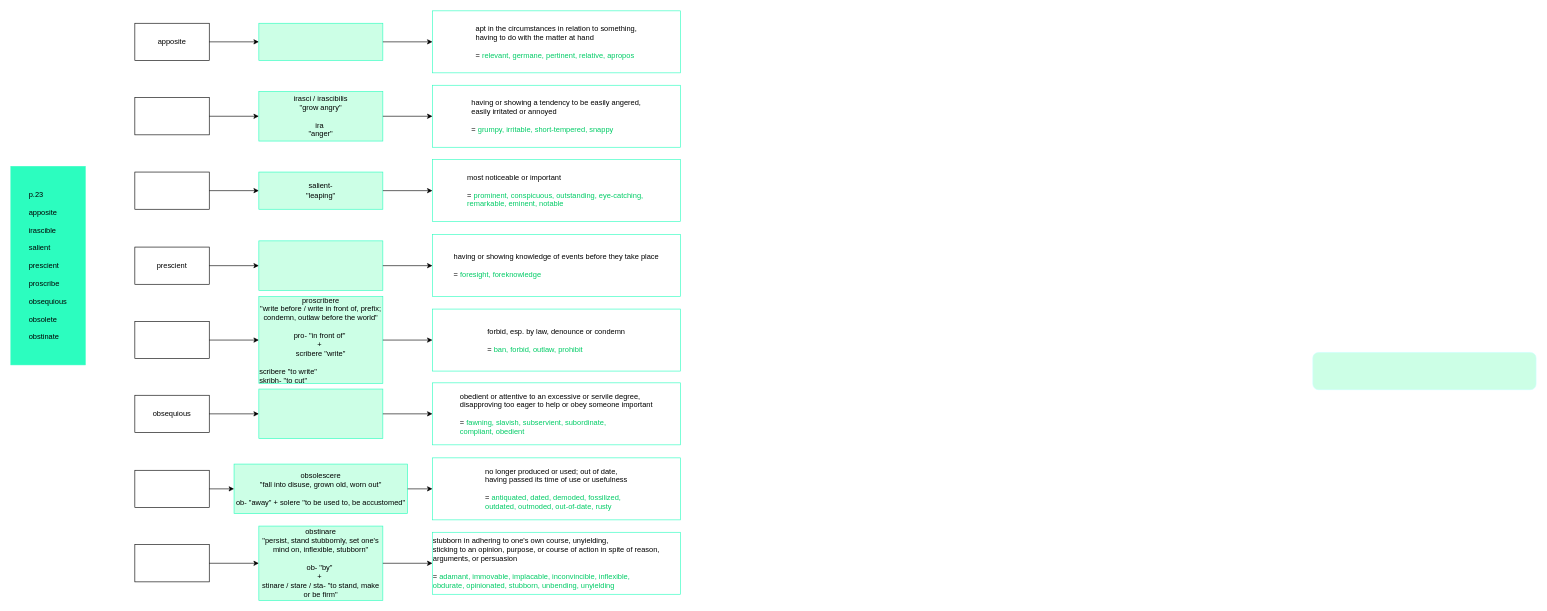
The diagram is 1547 pixels wide and 611 high, and some of its shapes have lost their labels. The shapes that lost their labels are listed below. From the top down, each one's box as (x1, y1, x2, y2) in pixels, then its label:
(258, 23, 383, 60): apponere "apply" ad- "towards" + ponere "put"
(134, 97, 209, 135): irascible
(134, 171, 209, 209): salient
(258, 240, 383, 290): praescient- "knowing beforehand" prae- / pre- "before" + scire "know"
(134, 321, 209, 359): proscribe
(1312, 352, 1536, 390): log transformation
(258, 388, 383, 439): obsequium "compliancy" obsequi "follow, comply with"
(134, 470, 209, 507): obsolete
(134, 544, 209, 582): obstinate
